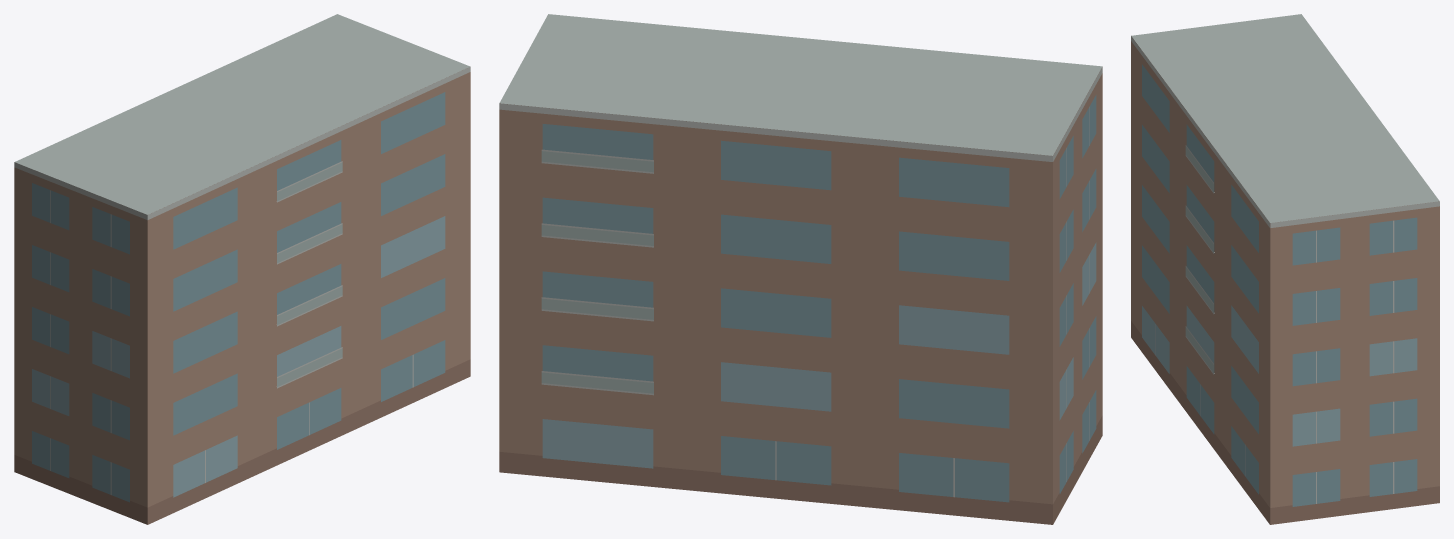
Rendered from survey-upis-32970164.glb.
3 views of the same model, side by side, from view 1: azimuth 30°, elevation 25°; view 2: azimuth 150°, elevation 25°; view 3: azimuth 270°, elevation 25° (orthographic). The views are drawn at different scales.
Parts seen in each view (by area): view 1: survey-upis-32970164.tmp; view 2: survey-upis-32970164.tmp; view 3: survey-upis-32970164.tmp.
Part boxes in pixels (x1,y1,x2,y2): survey-upis-32970164.tmp: (14,14,470,524); survey-upis-32970164.tmp: (499,14,1102,524); survey-upis-32970164.tmp: (1131,14,1439,524).
Size of the model in its own units: 21.38 by 14.38 by 13.34.
